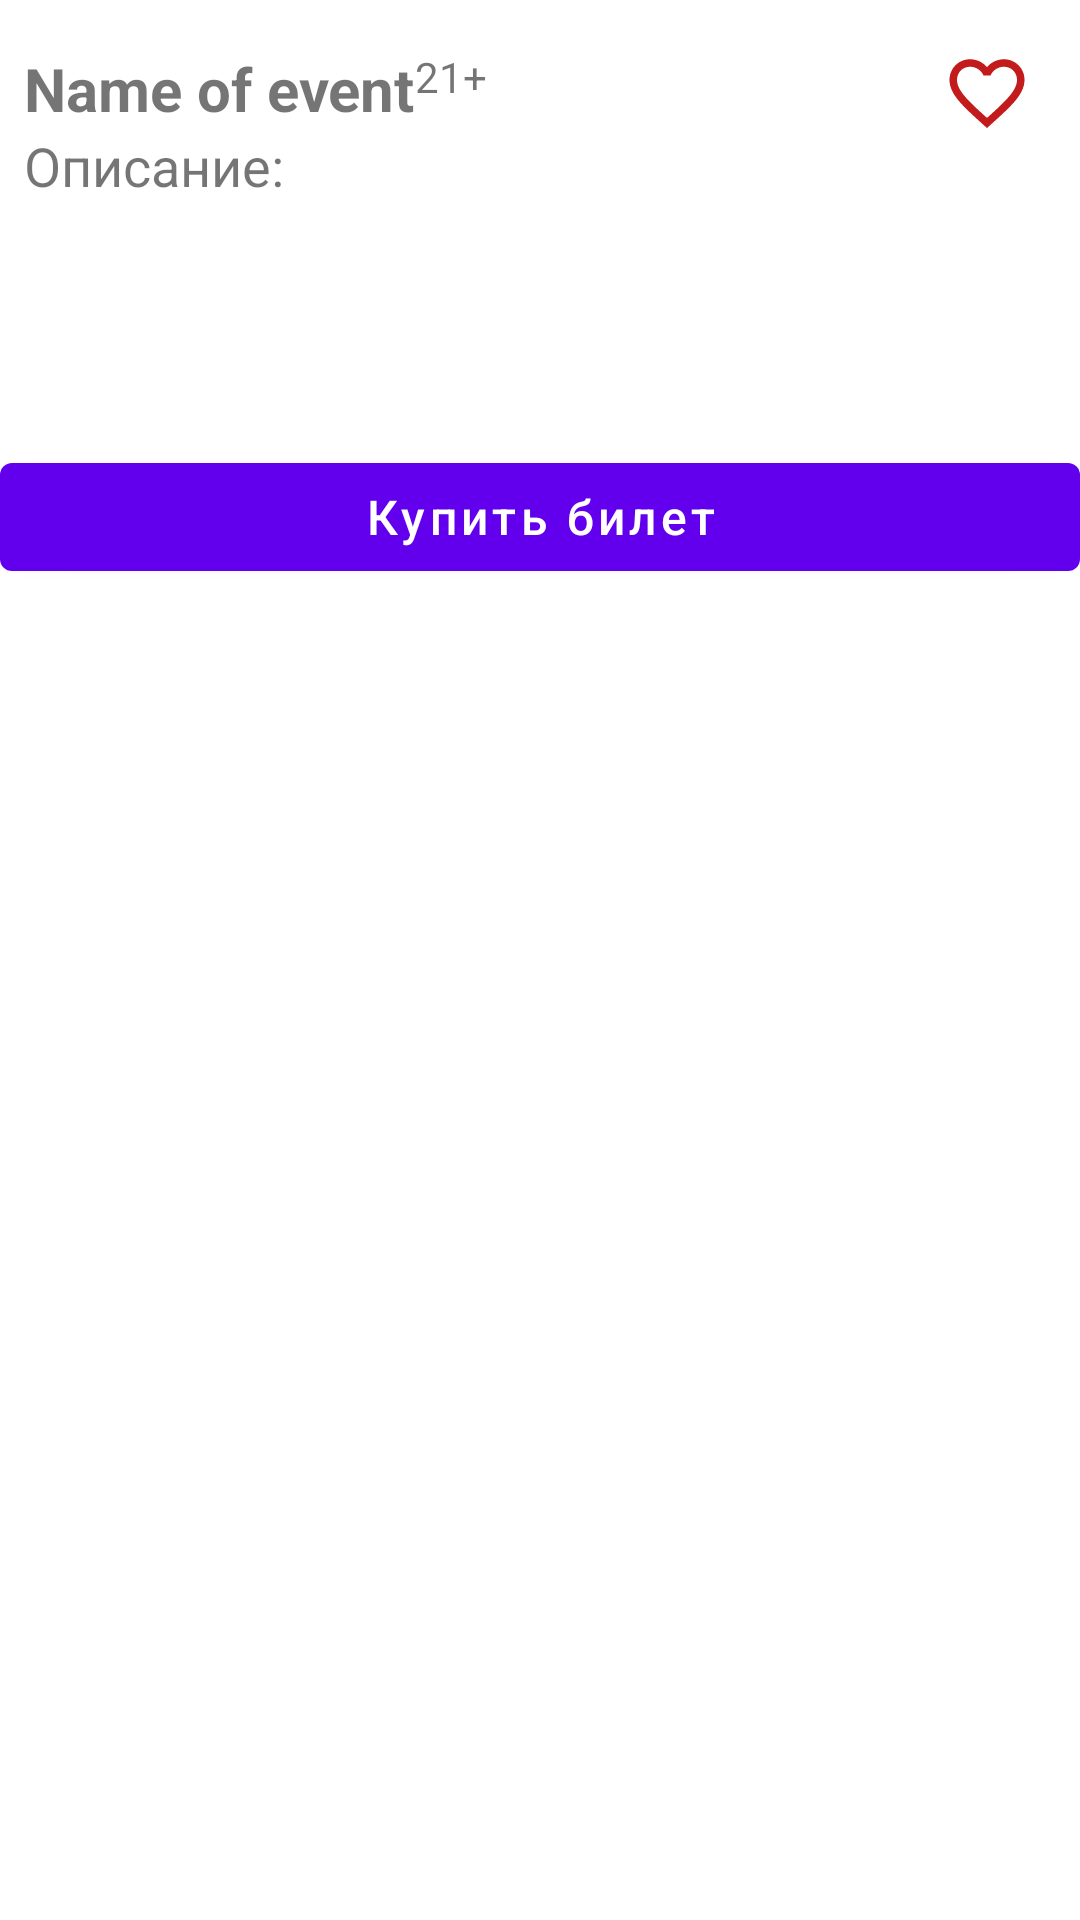

Icons on this 1080×1920 Android screen, each with its box as (x1=x1, y1=y1, x2=x2, y2=y2):
favorite: (x1=949, y1=59, x2=1025, y2=128)
